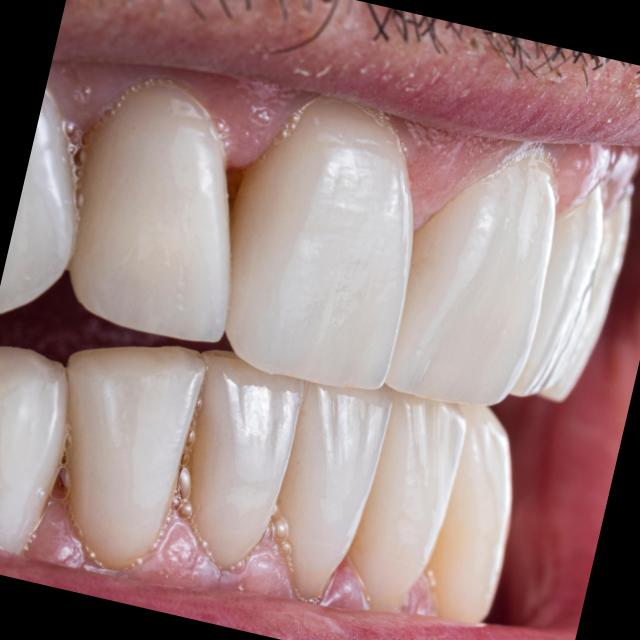Tooth: (224, 94, 413, 389), (384, 149, 555, 407), (69, 81, 230, 343), (66, 346, 205, 571), (344, 385, 467, 613), (180, 349, 303, 569), (273, 379, 392, 601), (426, 405, 513, 622)
